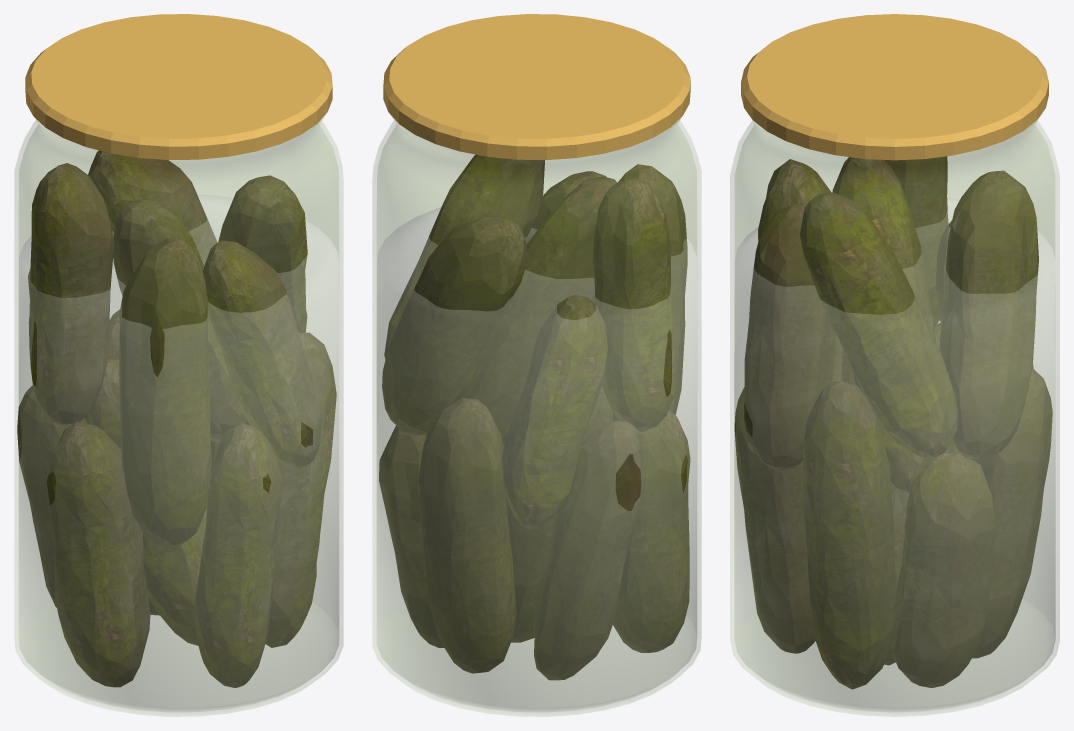
3 views of the same model, side by side, from view 1: azimuth 30°, elevation 25°; view 2: azimuth 150°, elevation 25°; view 3: azimuth 270°, elevation 25° (orthographic).
Visible parts, largest first — view 1: glass, water, metal, cucumber.011, cucumber.001, cucumber.008, cucumber.004, cucumber.007, cucumber, cucumber.013, cucumber.003, cucumber.010 (+2 smaller); view 2: glass, water, metal, cucumber.002, cucumber.009, cucumber.005, cucumber.008, cucumber.012, cucumber.001, cucumber.010, cucumber.013, cucumber.006 (+3 smaller); view 3: glass, water, metal, cucumber, cucumber.009, cucumber.013, cucumber.006, cucumber.007, cucumber.004, cucumber.002, cucumber.010, cucumber.008 (+3 smaller).
Boxes of the visible parts, left/top/right/bottom form: glass: left=14, top=116, right=343, bottom=716; water: left=19, top=195, right=338, bottom=711; metal: left=25, top=14, right=332, bottom=159; cucumber.011: left=119, top=238, right=211, bottom=547; cucumber.001: left=46, top=421, right=150, bottom=687; cucumber.008: left=28, top=163, right=114, bottom=425; cucumber.004: left=194, top=423, right=281, bottom=687; cucumber.007: left=202, top=240, right=321, bottom=468; cucumber: left=245, top=332, right=336, bottom=647; cucumber.013: left=218, top=175, right=307, bottom=332; cucumber.003: left=88, top=359, right=207, bottom=645; cucumber.010: left=113, top=198, right=245, bottom=442; glass: left=372, top=116, right=701, bottom=716; water: left=377, top=194, right=696, bottom=711; metal: left=383, top=14, right=690, bottom=159; cucumber.002: left=418, top=398, right=516, bottom=673; cucumber.009: left=382, top=216, right=527, bottom=435; cucumber.005: left=534, top=420, right=642, bottom=680; cucumber.008: left=593, top=178, right=675, bottom=431; cucumber.012: left=502, top=295, right=607, bottom=529; cucumber.001: left=613, top=410, right=690, bottom=652; cucumber.010: left=468, top=176, right=616, bottom=444; cucumber.013: left=384, top=154, right=544, bottom=359; cucumber.006: left=379, top=425, right=443, bottom=647; glass: left=730, top=117, right=1059, bottom=716; water: left=734, top=198, right=1055, bottom=711; metal: left=741, top=14, right=1048, bottom=160; cucumber: left=803, top=381, right=895, bottom=689; cucumber.009: left=939, top=170, right=1038, bottom=459; cucumber.013: left=799, top=192, right=957, bottom=457; cucumber.006: left=892, top=453, right=995, bottom=687; cucumber.007: left=744, top=204, right=835, bottom=470; cucumber.004: left=734, top=387, right=815, bottom=653; cucumber.002: left=963, top=368, right=1052, bottom=658; cucumber.010: left=832, top=157, right=935, bottom=492; cucumber.008: left=884, top=156, right=948, bottom=326.
Size of the model in its own units: 433 by 835 by 433.
4 materials, 2 textured.
